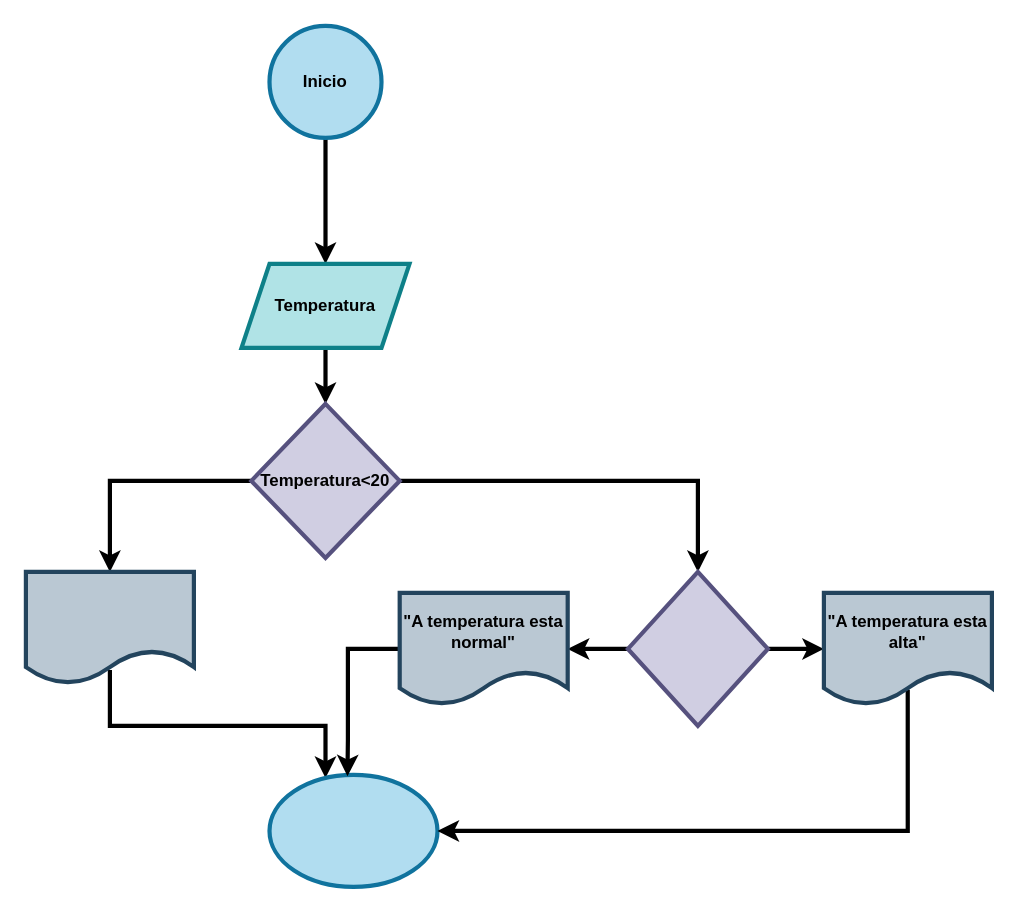
The diagram is 1018 pixels wide and 913 high, and some of its shapes have lost their labels. The centre of each missing label's shape, as x and y in pixels:
"A temperatura esta baixa": point 109,627
Fim: point 353,830
Temperatura<25: point 697,648
